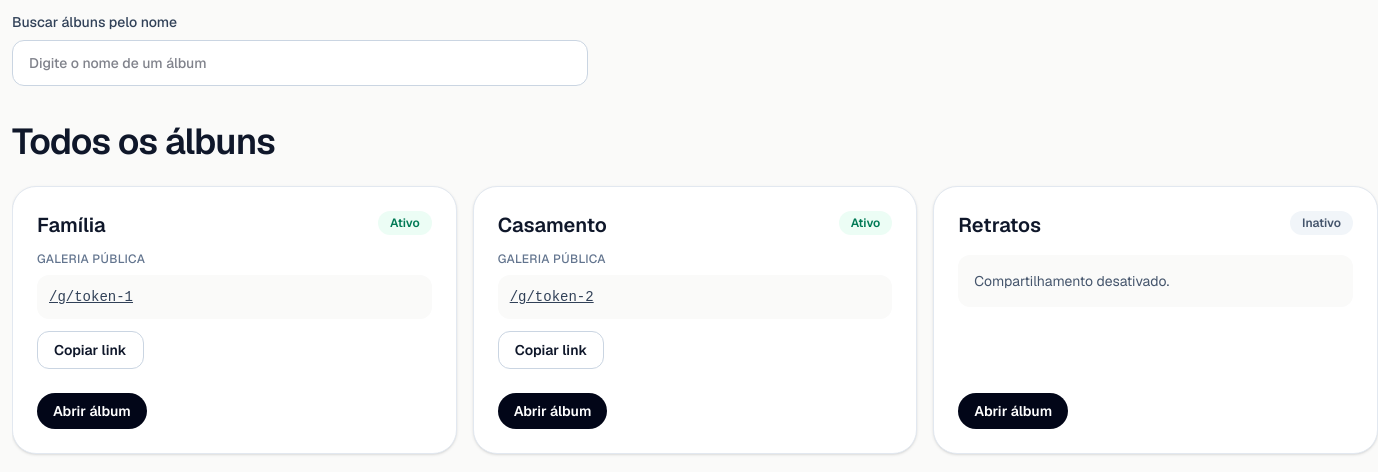
album search › filters albums by name without requiring matching accents or case
The image size is (1378, 472).
Check: the number of links "Abrir álbum" is 3, box [37,393,147,429]; [498,393,608,429]; [958,393,1068,429]
Type "FAMILIA" into the search field labelled "Buscar álbuns pelo nome". click: (300, 63)
box: [12,40,588,86]
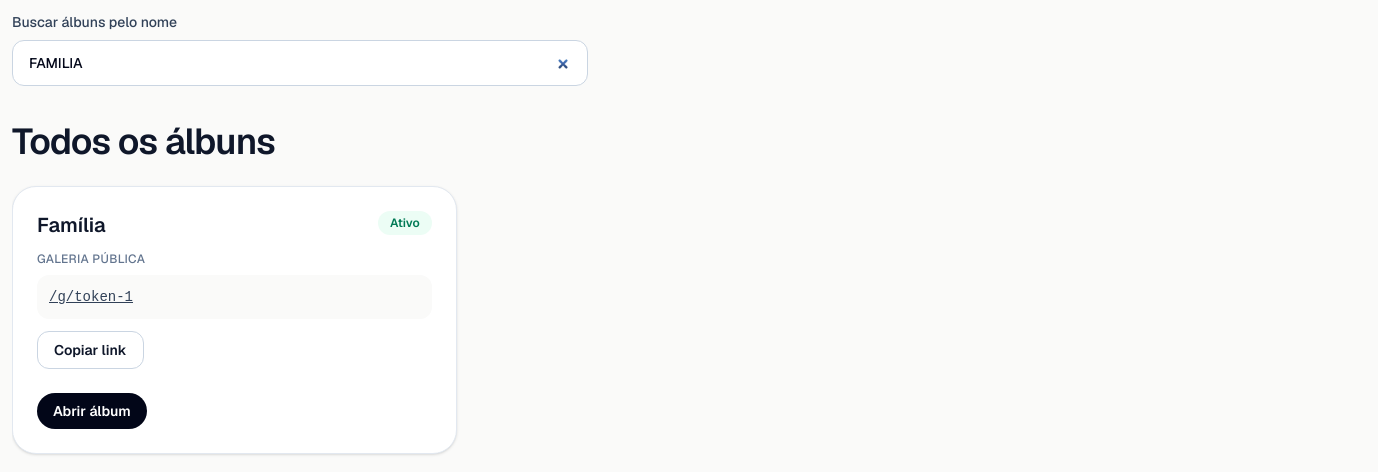
Check: the heading "Família" is shown, box [37,211,106,239]
Check: the heading "Casamento" is gone
